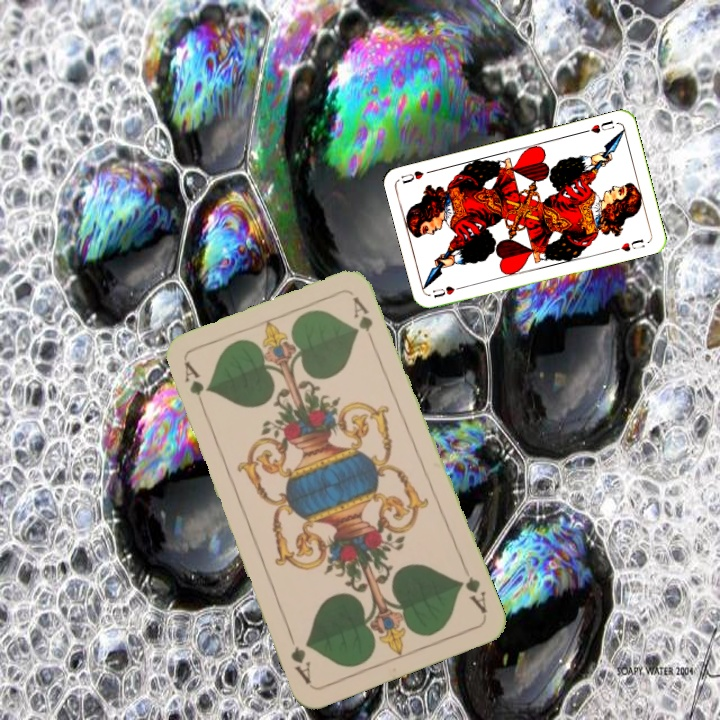GA: (180, 358, 209, 415), (454, 572, 490, 616)
HU: (428, 282, 468, 301), (580, 116, 617, 136)
